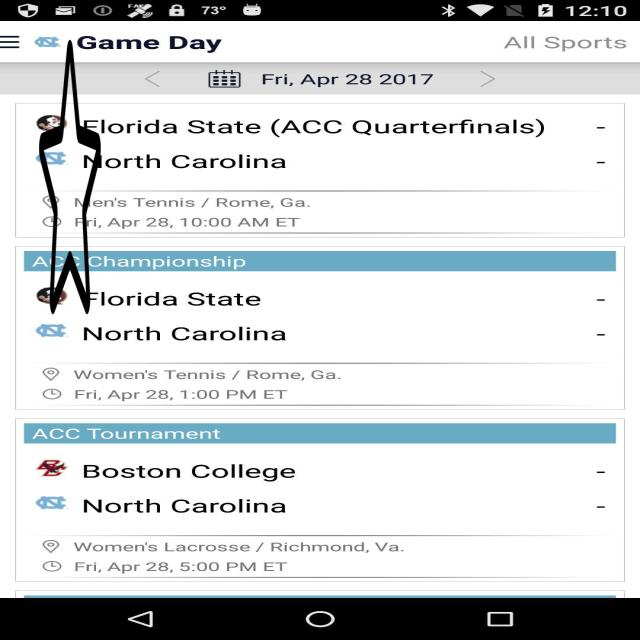forced continuity: (39, 34, 101, 320)
